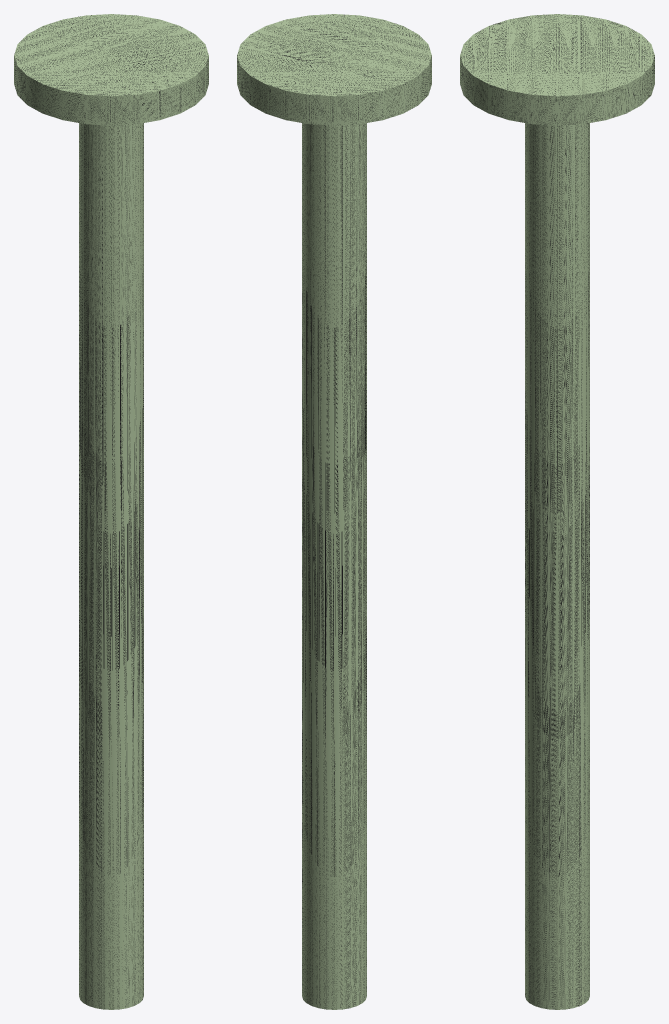
Rendered from original-3.obj.
3 renders of one model, left to right at view 1: azimuth 30°, elevation 25°; view 2: azimuth 150°, elevation 25°; view 3: azimuth 270°, elevation 25°, orthographic.
Parts seen in each view (by area): view 1: Group3/mesh2/mesh2-geometry#mesh2-geometry; view 2: Group3/mesh2/mesh2-geometry#mesh2-geometry; view 3: Group3/mesh2/mesh2-geometry#mesh2-geometry.
Part boxes in pixels (box(x1,y1,x2,y2)): Group3/mesh2/mesh2-geometry#mesh2-geometry: box(14, 14, 208, 1009); Group3/mesh2/mesh2-geometry#mesh2-geometry: box(237, 14, 431, 1009); Group3/mesh2/mesh2-geometry#mesh2-geometry: box(460, 14, 654, 1009).
Size of the model in its own units: 0.0652 by 0.3479 by 0.0652.
